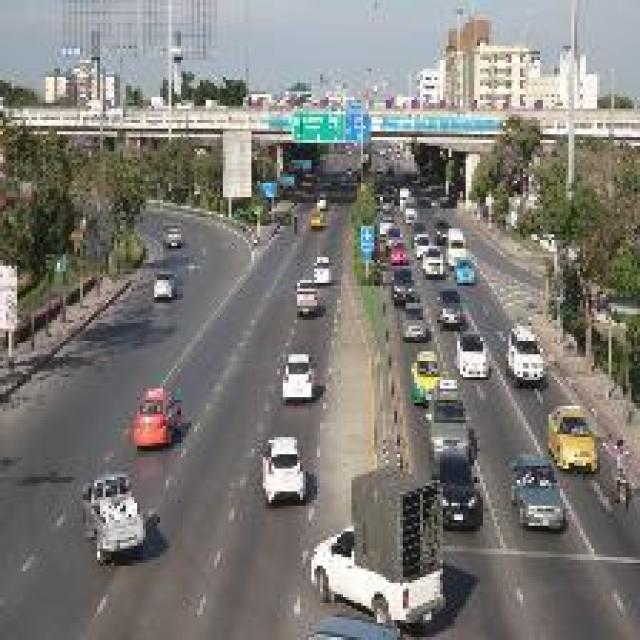other: (546, 396, 596, 473), (124, 375, 168, 443)
